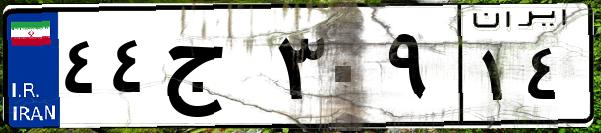0: (330, 28, 385, 110)
1: (475, 38, 525, 113)
3: (270, 28, 330, 110)
4: (57, 26, 110, 100), (525, 38, 570, 115), (110, 28, 158, 98)
9: (385, 28, 445, 110)
ج: (158, 20, 270, 120)
